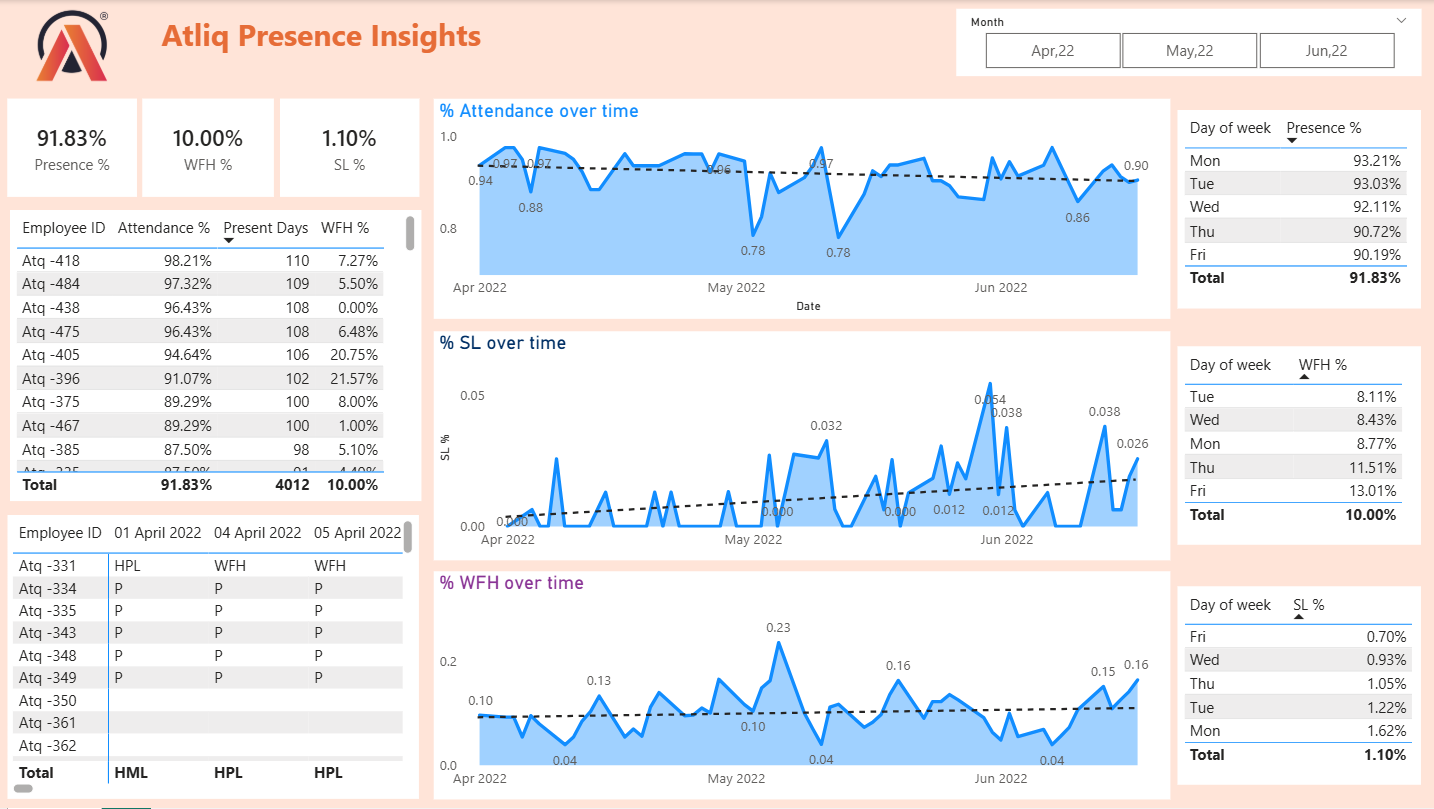

What the dashboard file says about the page in this screenshot:
{"tool":"powerbi","page":{"name":"Page 1","canvas":[1280,720],"ordinal":0},"visuals":[{"type":"cardVisual","fields":{"Data":["Measure Table.Presence %"]},"box":[7,88,115,87],"z":0},{"type":"cardVisual","fields":{"Data":["Measure Table.WFH %"]},"box":[127,88,117,87],"z":1},{"type":"slicer","fields":{"Values":["Final Data.Month"]},"box":[852,8,414,60],"z":2},{"type":"cardVisual","fields":{"Data":["Measure Table.SL %"]},"box":[249,88,124,87],"z":3},{"type":"tableEx","fields":{"Values":["Final Data.Employee  ID","Measure Table.Attendance %","Measure Table.Present Days","Measure Table.WFH %"]},"box":[9,187,366,259],"z":4},{"type":"textbox","box":[99,8,374,60],"z":5},{"type":"pivotTable","fields":{"Rows":["Final Data.Employee  ID"],"Values":["Min(Final Data.Value)"],"Columns":["Final Data.Date"]},"box":[7,459,366,253],"z":6},{"type":"areaChart","title":" % WFH over time","fields":{"Category":["Final Data.Date"],"Y":["Measure Table.WFH %"]},"box":[386,509,656,203],"z":7},{"type":"areaChart","title":"%  Attendance over time","fields":{"Category":["Final Data.Date"],"Y":["Measure Table.Presence %"]},"box":[386,88,656,196],"z":8},{"type":"areaChart","title":"% SL over time","fields":{"Category":["Final Data.Date"],"Y":["Measure Table.SL %"]},"box":[386,295,656,204],"z":9},{"type":"tableEx","fields":{"Values":["Final Data.Day of week","Measure Table.Presence %"]},"box":[1049,98,217,177],"z":10},{"type":"tableEx","fields":{"Values":["Final Data.Day of week","Measure Table.WFH %"]},"box":[1049,308,217,177],"z":11},{"type":"tableEx","fields":{"Values":["Final Data.Day of week","Measure Table.SL %"]},"box":[1049,522,217,177],"z":12},{"type":"image","box":[24,8,81,65],"z":13}]}

Visuals, with their boxes in screenshot pixels (x1, y1, x2, y2), scaled from the page's 1280x720 canvas onto the 1434x809 screenshot:
cardVisual - Measure Table.Presence %: 8,99,137,197
cardVisual - Measure Table.WFH %: 142,99,273,197
slicer - Final Data.Month: 955,9,1418,76
cardVisual - Measure Table.SL %: 279,99,418,197
tableEx - Final Data.Employee  ID x Measure Table.Attendance %: 10,210,420,501
textbox: 111,9,530,76
pivotTable - Final Data.Employee  ID x Min(Final Data.Value): 8,516,418,800
" % WFH over time" areaChart: 432,572,1167,800
"%  Attendance over time" areaChart: 432,99,1167,319
"% SL over time" areaChart: 432,331,1167,561
tableEx - Final Data.Day of week x Measure Table.Presence %: 1175,110,1418,309
tableEx - Final Data.Day of week x Measure Table.WFH %: 1175,346,1418,545
tableEx - Final Data.Day of week x Measure Table.SL %: 1175,587,1418,785
image: 27,9,118,82
